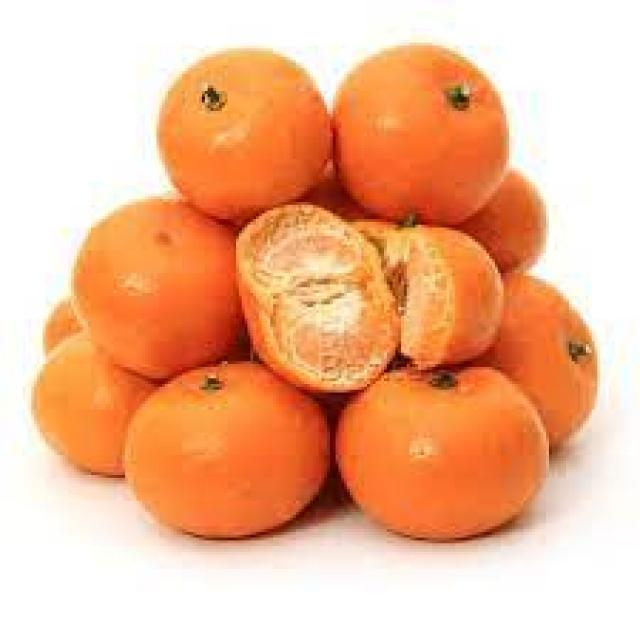orange: (116, 369, 368, 572), (154, 52, 328, 206)
